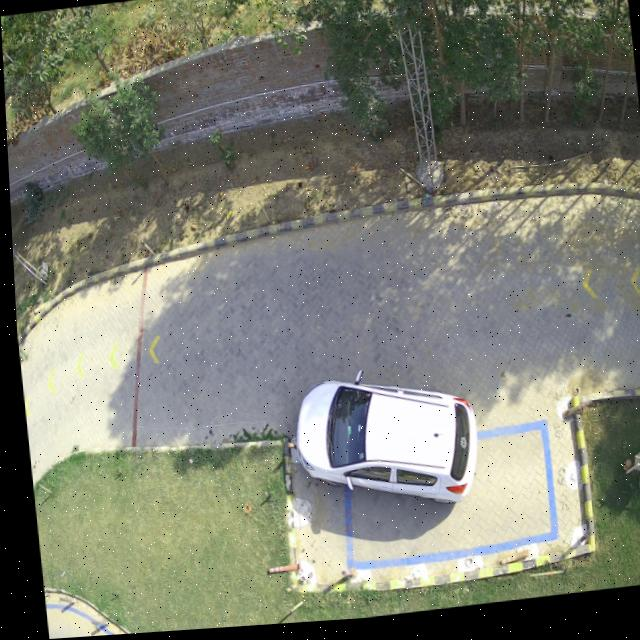car: (286, 376, 473, 510)
